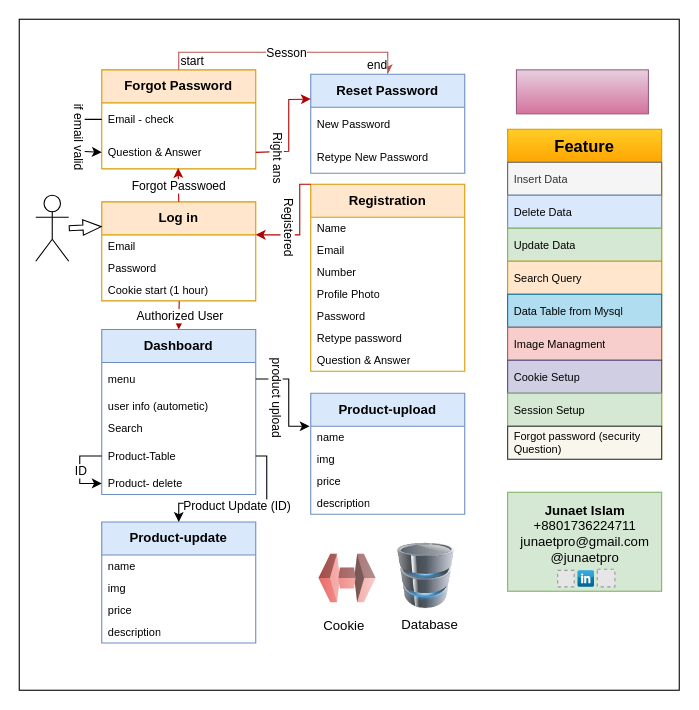
Some shapes in this 699 by 710 pixel diagram are drawn without their labels. Grey dashed boxes stand in for pictures. The centre of each missing label's shape, as x and y in pixels:
"PHP Project" belongs at pixel 581 91.
"User" belongs at pixel 52 227.
